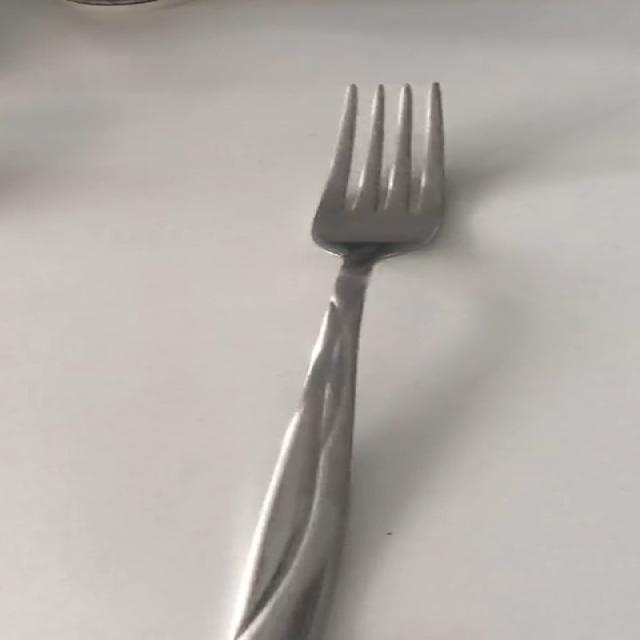spoon: (236, 82, 444, 639)
